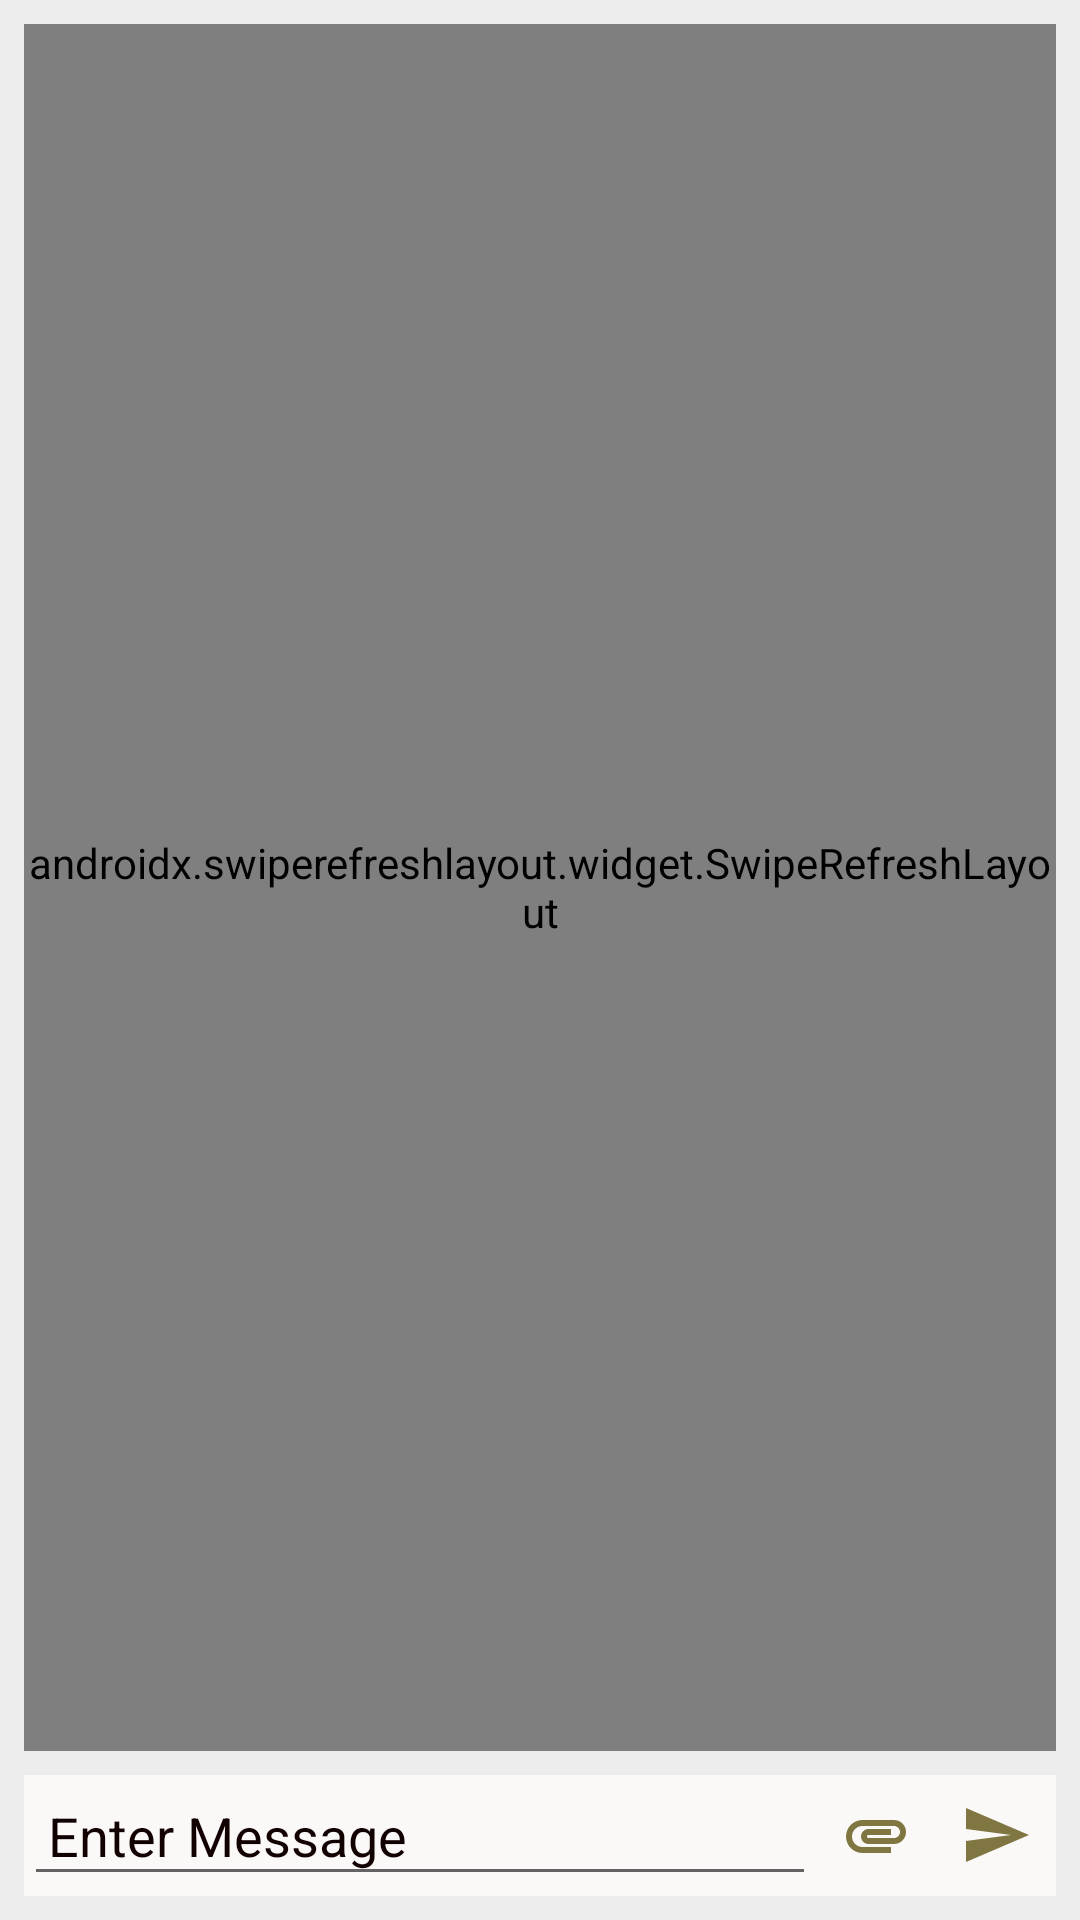

Named icons in this screenshot (1080px x 1920px) and their bounding boxes, (x1, y1, x2, y2):
attachment: (846, 1820, 906, 1853)
send: (966, 1808, 1029, 1862)
